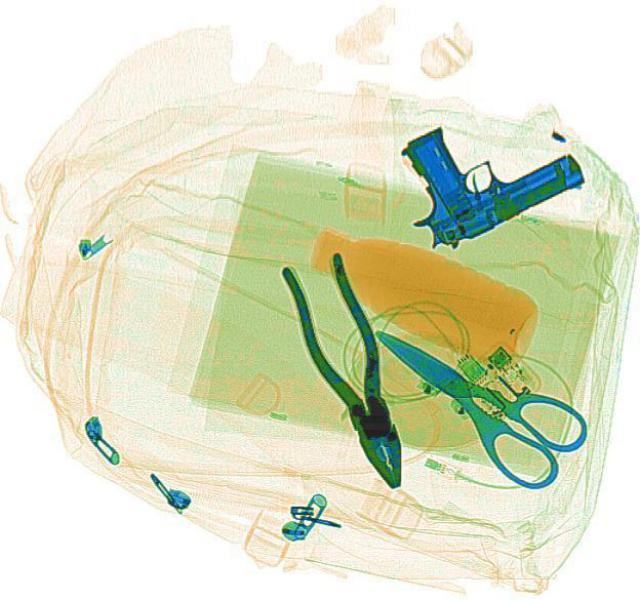Gun: (368, 84, 588, 256)
Pliers: (272, 248, 428, 496)
Scissors: (341, 298, 599, 496)
